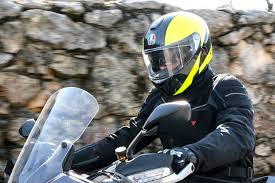helmet: (141, 11, 217, 92)
